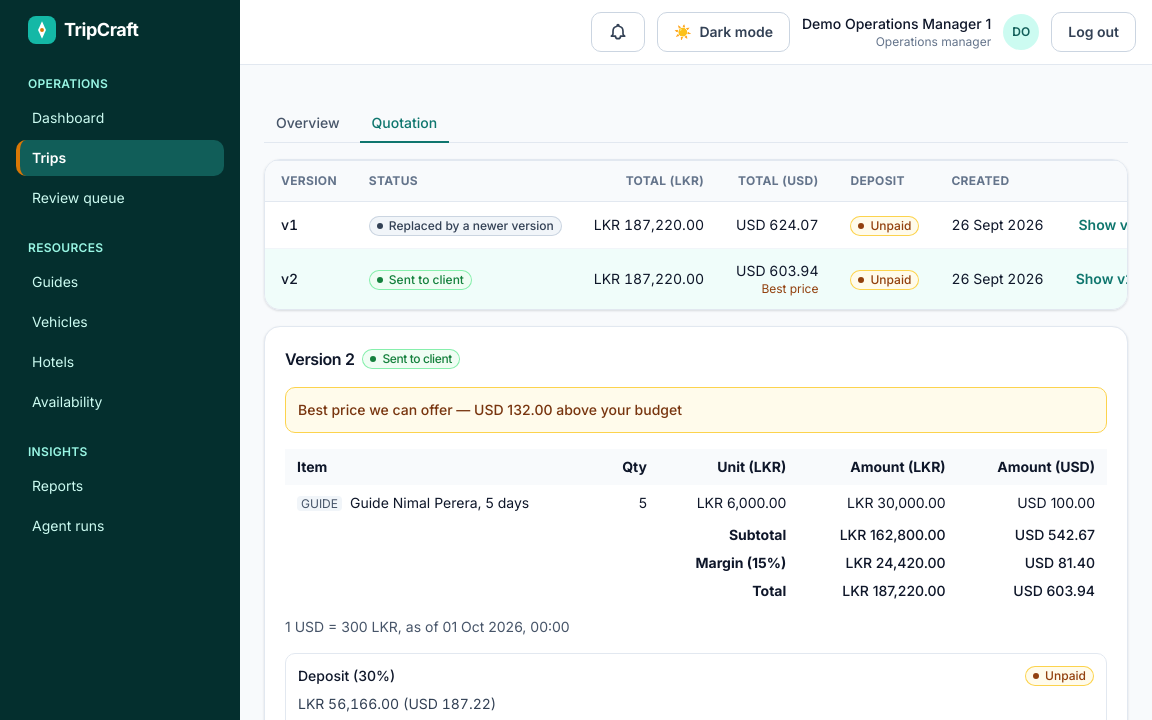
Scenario: Trip detail: Quotation tab › shows the best-price note, in warning tone, on a version sent over the budget
This screenshot has width=1152, height=720.
Expected: the row "v2" shows "Best price", 761,281 -> 818,296
Expected: the row "v2" shows "Sent to client", 389,272 -> 464,287
# Version 1 was within budget: no note.
Click the button "Show v1" at [1106, 225], box 1078,215 -> 1134,235
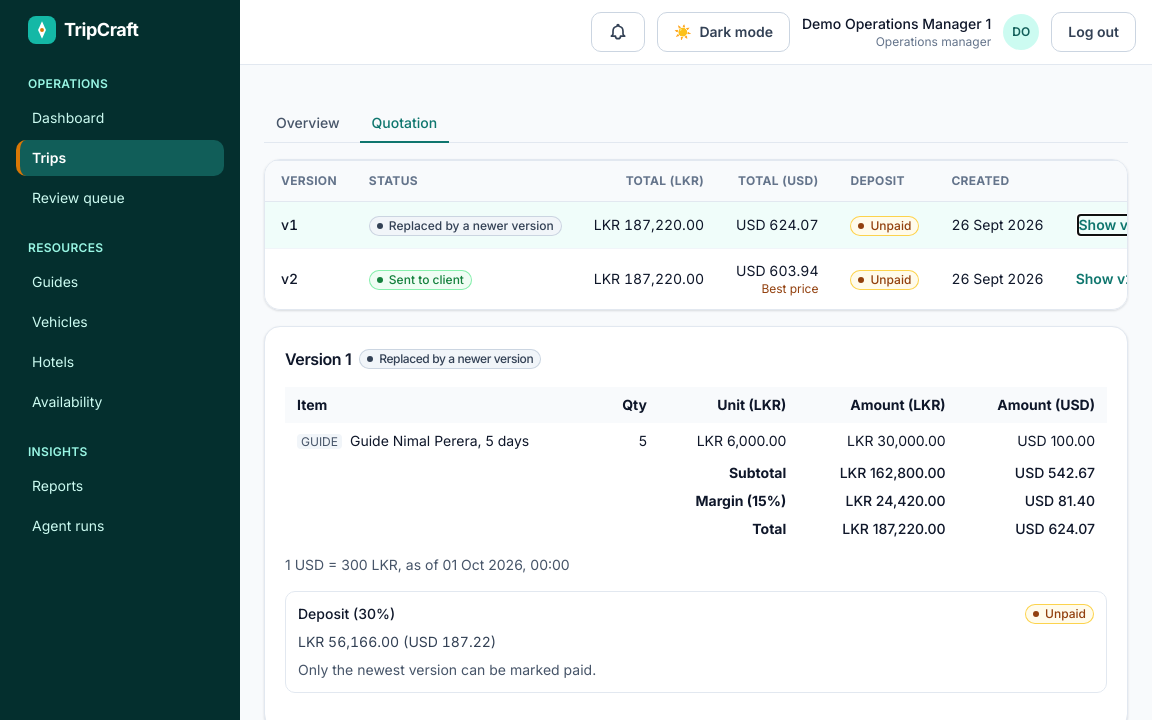
Expected: the text "Best price we can offer" is gone
